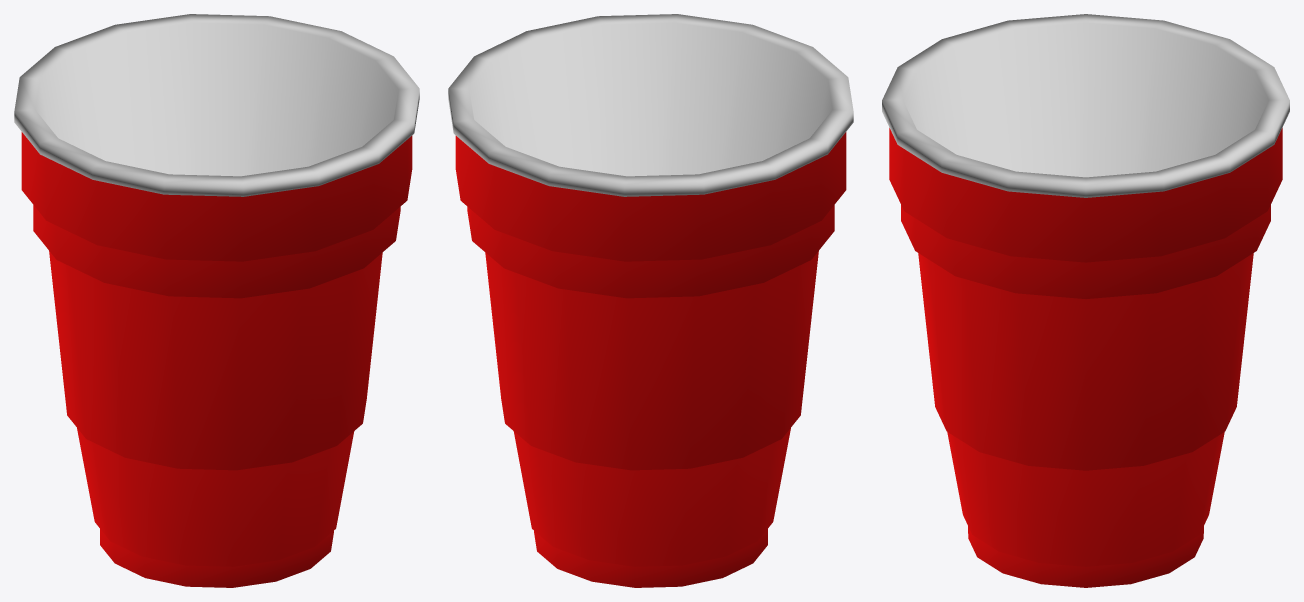
The model's file is pongcub_low.fbx.
The picture shows the model from 3 angles, left to right: view 1: azimuth 30°, elevation 25°; view 2: azimuth 150°, elevation 25°; view 3: azimuth 270°, elevation 25°; orthographic projection.
Visible parts, largest first — view 1: Cup; view 2: Cup; view 3: Cup.
Boxes of the visible parts, x1,y1,x2,y2 form: Cup: (14, 14, 419, 587); Cup: (448, 14, 853, 587); Cup: (882, 14, 1289, 587).
Size of the model in its own units: 92.4 by 110 by 92.4.
